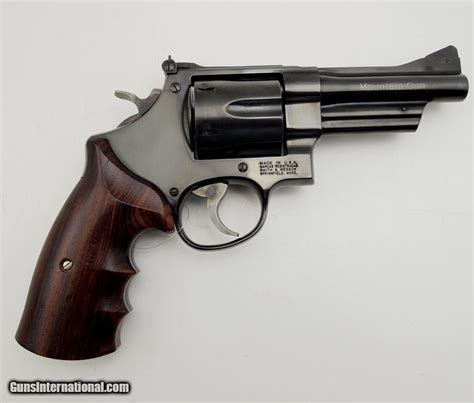gun: (14, 45, 468, 358)
